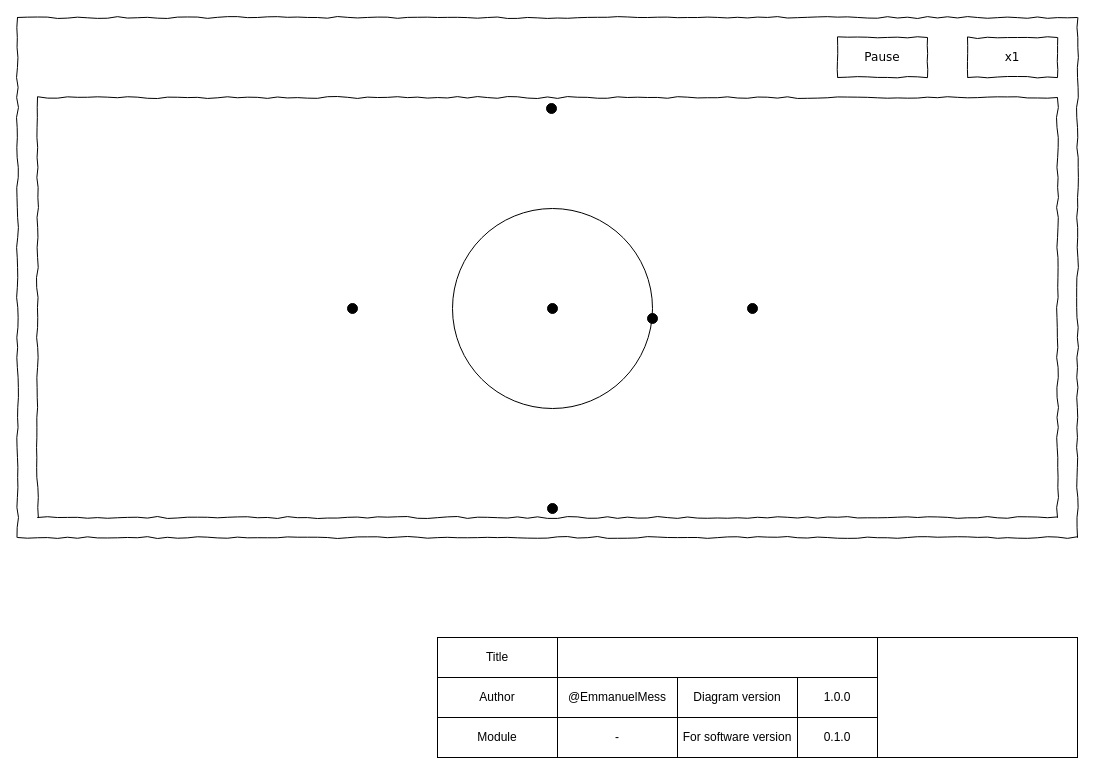
Some shapes in this 1095 by 775 pixel diagram are drawn without their labels. Each missing label, with the box of its shape:
Constraint Based Simulator: (876, 636, 1078, 758)
UI main window wireframe sketch: (556, 636, 878, 678)
